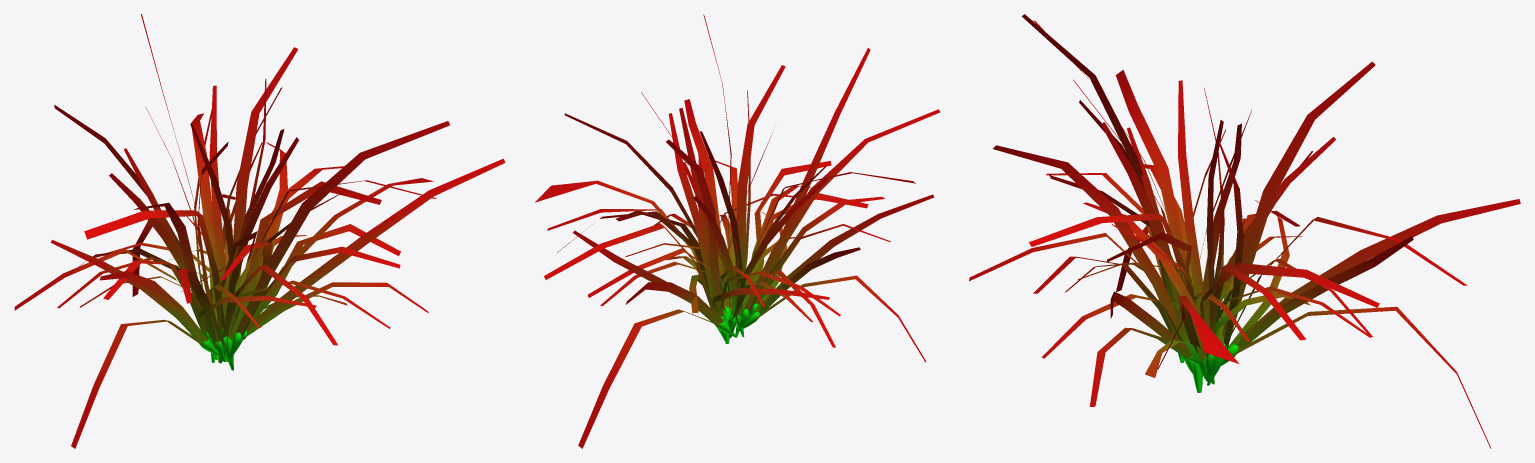
Rendered from Var1.fbx.
3 renders of one model, left to right at view 1: azimuth 30°, elevation 25°; view 2: azimuth 150°, elevation 25°; view 3: azimuth 270°, elevation 25°, orthographic. The views are drawn at different scales.
Visible parts, largest first — view 1: Var1; view 2: Var1; view 3: Var1.
Boxes of the visible parts, bbox=[...] form: Var1: bbox=[14, 14, 505, 448]; Var1: bbox=[535, 14, 939, 448]; Var1: bbox=[969, 14, 1520, 448].
Size of the model in its own units: 70.82 by 54.1 by 72.87.
